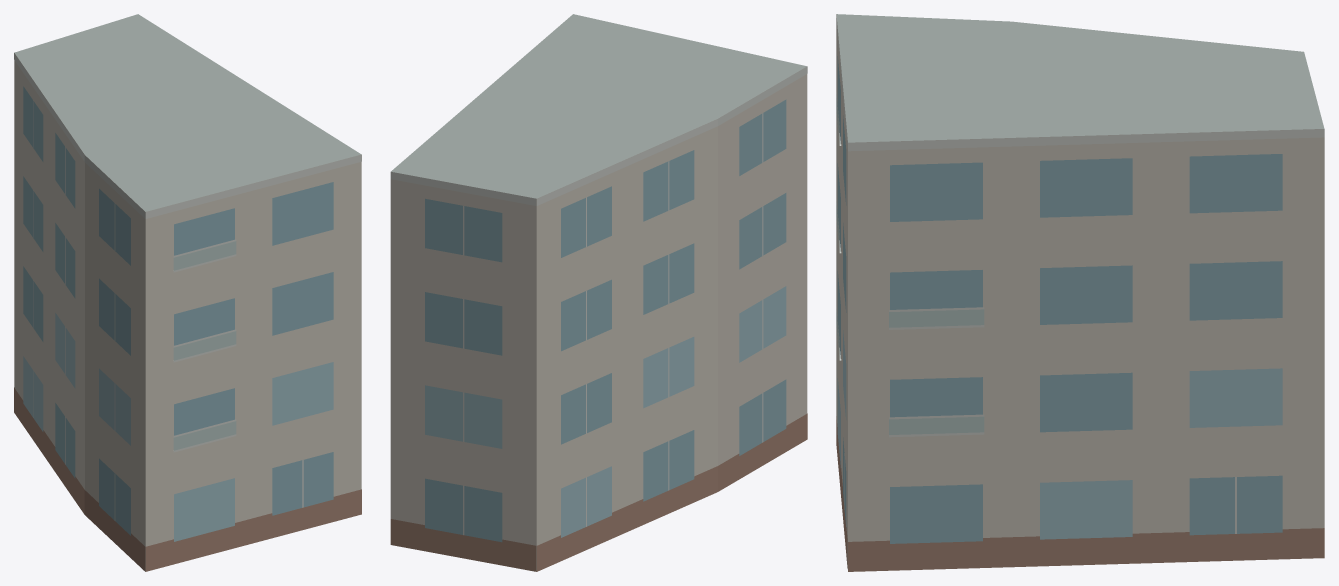
Rendered from survey-upis-32792329.glb.
The picture shows the model from 3 angles, left to right: view 1: azimuth 30°, elevation 25°; view 2: azimuth 150°, elevation 25°; view 3: azimuth 270°, elevation 25°; orthographic projection. The views are drawn at different scales.
Visible parts, largest first — view 1: survey-upis-32792329.tmp; view 2: survey-upis-32792329.tmp; view 3: survey-upis-32792329.tmp.
Boxes of the visible parts, x1,y1,x2,y2 form: survey-upis-32792329.tmp: (14, 14, 361, 571); survey-upis-32792329.tmp: (390, 14, 807, 571); survey-upis-32792329.tmp: (836, 14, 1324, 571).
Bounding box in the file's own units: 7.85 × 12.2 × 12.58.
